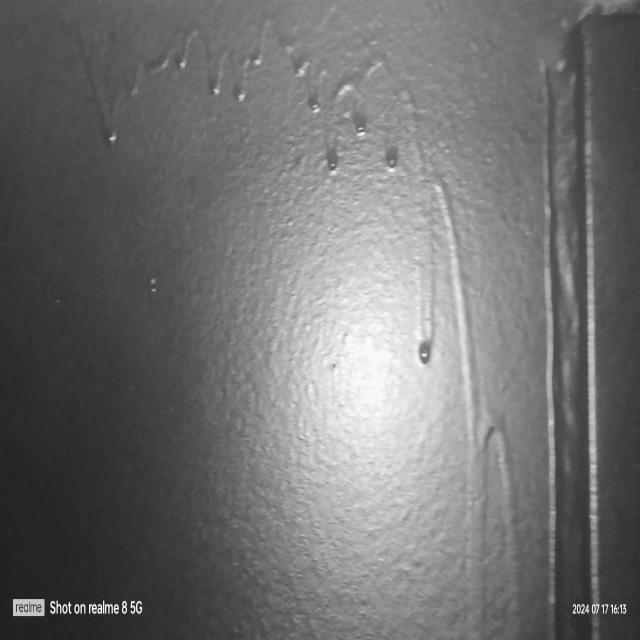paint drips: (408, 69, 524, 640), (66, 18, 409, 192)
